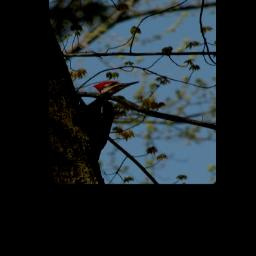Woodpecker: (77, 79, 143, 161)
